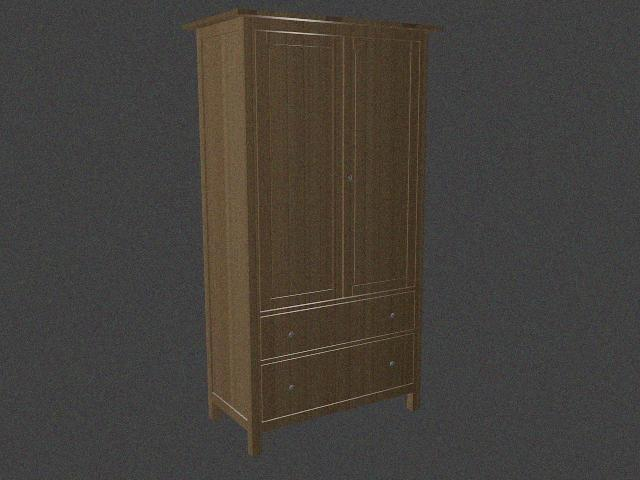cabinet_door: (258, 34, 343, 304), (343, 38, 418, 292), (262, 349, 414, 402), (261, 304, 415, 344)
handle: (383, 356, 401, 374), (387, 308, 402, 323), (284, 327, 299, 342), (344, 169, 357, 186), (285, 381, 299, 396), (331, 170, 341, 184)
